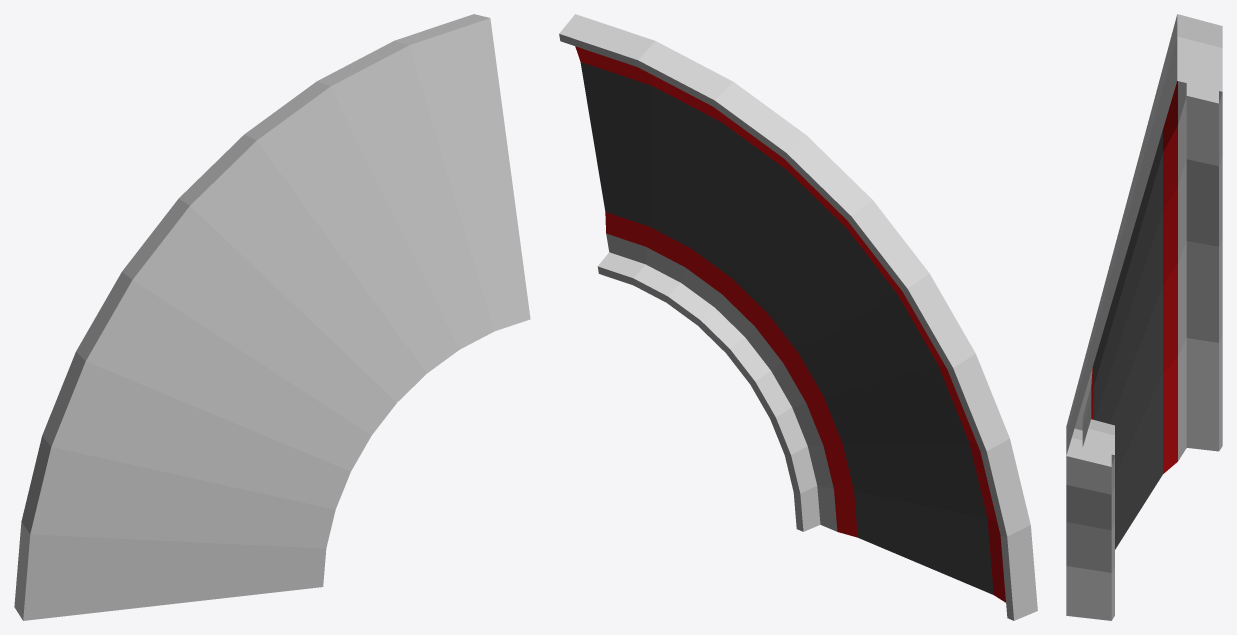
Rendered from Turn_Pitch1.fbx.
3 views of the same model, side by side, from view 1: azimuth 30°, elevation 25°; view 2: azimuth 150°, elevation 25°; view 3: azimuth 270°, elevation 25° (orthographic). The views are drawn at different scales.
Visible parts, largest first — view 1: Turn_Pitch1; view 2: Turn_Pitch1; view 3: Turn_Pitch1.
Boxes of the visible parts, x1,y1,x2,y2 form: Turn_Pitch1: [14, 14, 530, 620]; Turn_Pitch1: [559, 14, 1037, 620]; Turn_Pitch1: [1066, 14, 1222, 620].
Bounding box in the file's own units: 2223 × 2223 × 467.
